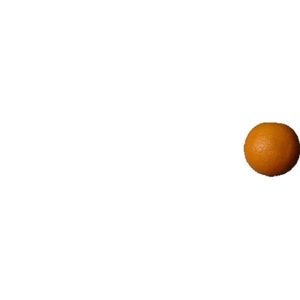laranja: (242, 119, 299, 179)
